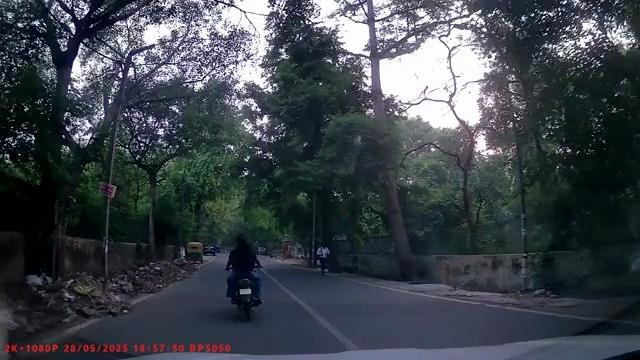motorcycle_without_helmet: (223, 233, 264, 320)
